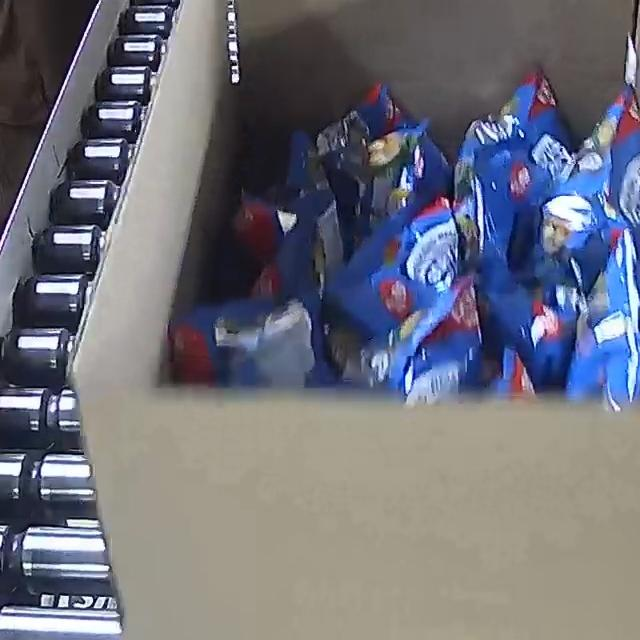paprika: (168, 62, 640, 408)
